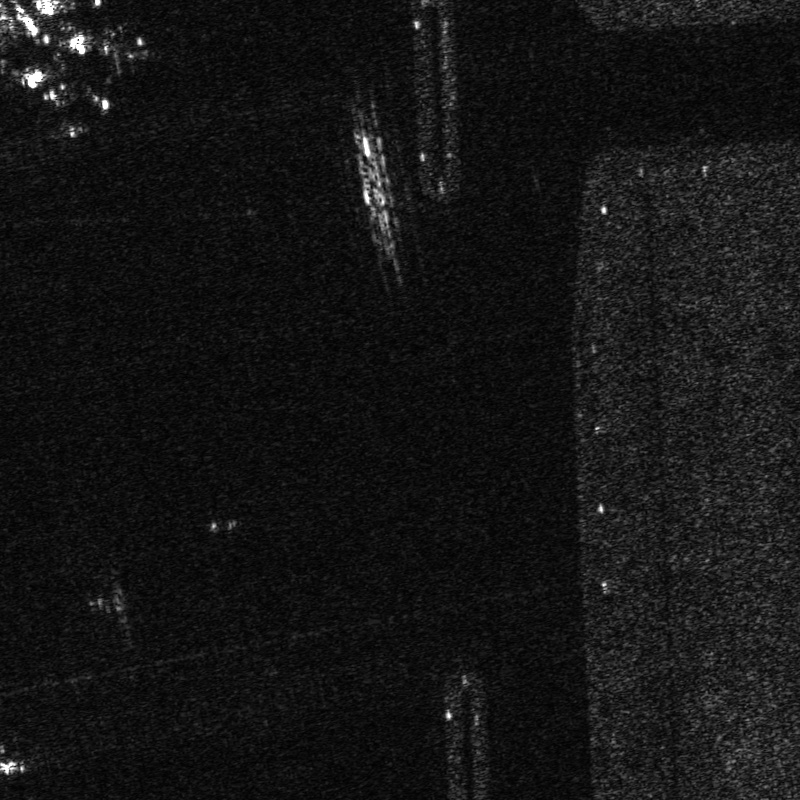A320/321: (55, 14, 155, 85)
Boeing737: (16, 60, 122, 138)
